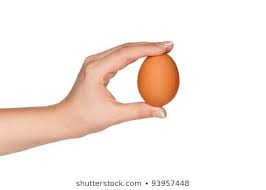egg: (138, 50, 179, 107)
